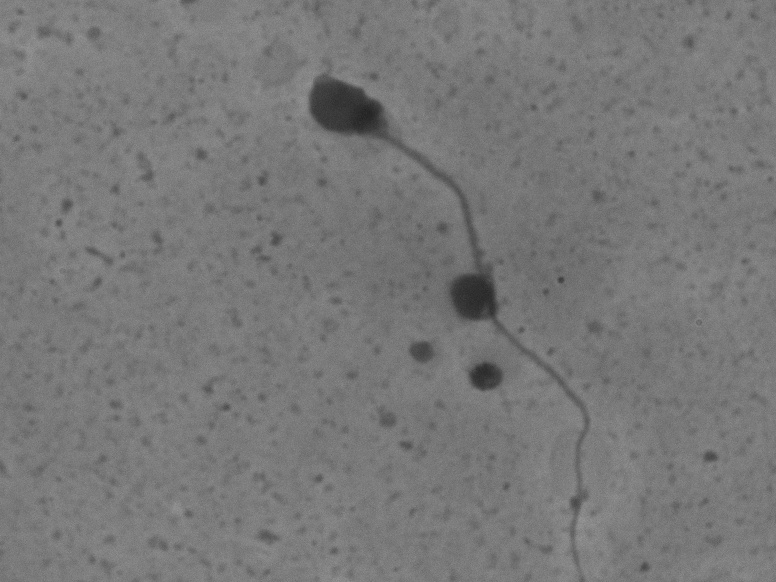Abnormal: (292, 47, 650, 578)
